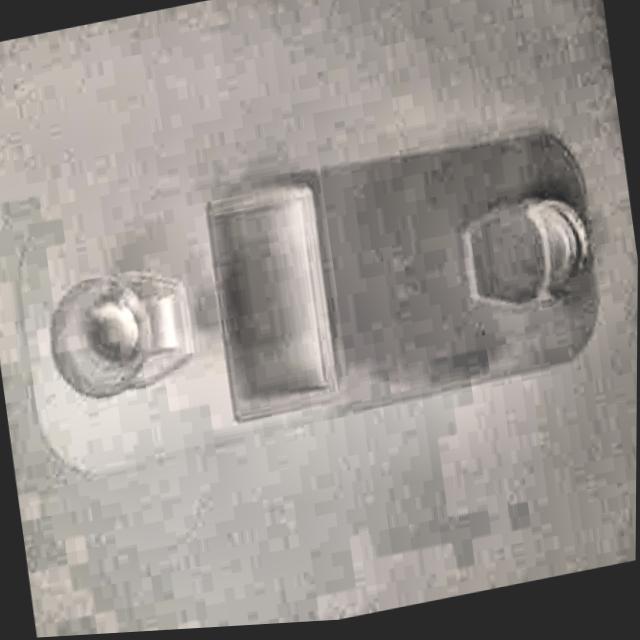Plastic: (17, 64, 635, 510)
